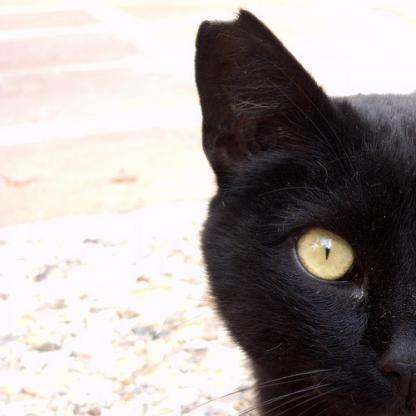cat: (194, 8, 415, 415)
